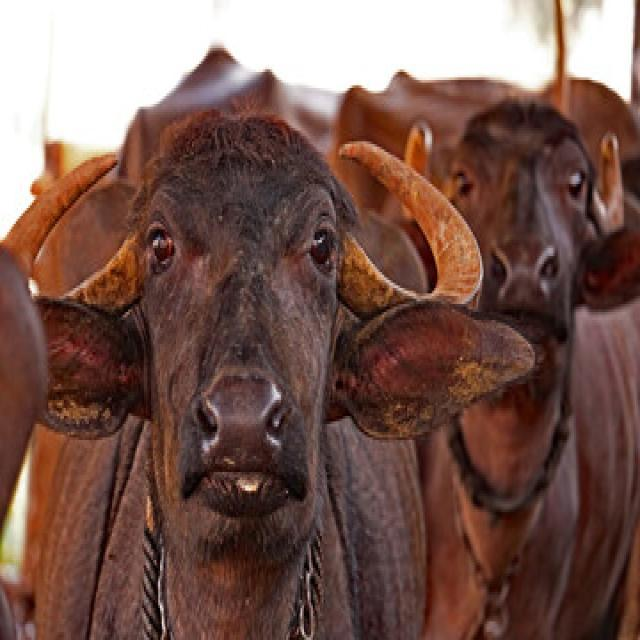Buffalo: (9, 122, 536, 612)
